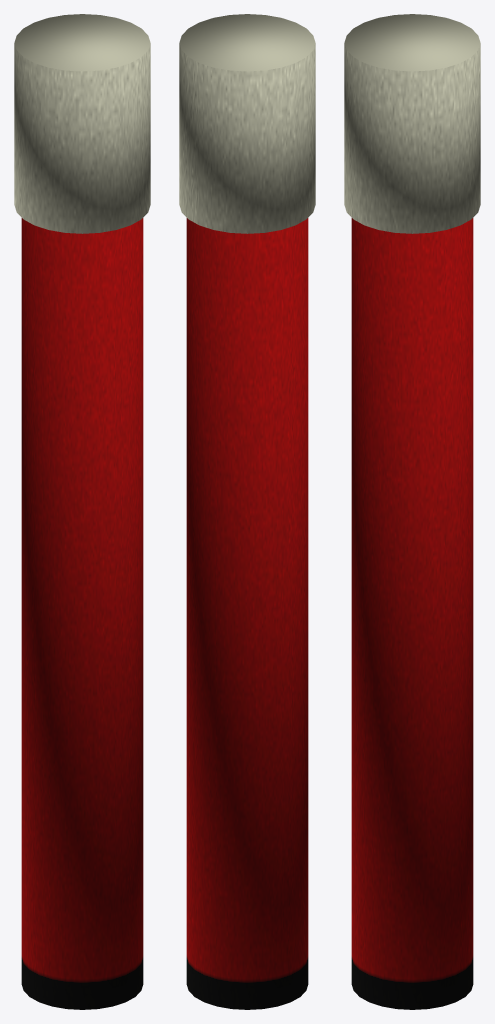
Rendered from SignalSmoke_RoadFlare.fbx.
3 views of the same model, side by side, from view 1: azimuth 90°, elevation 25°; view 2: azimuth 150°, elevation 25°; view 3: azimuth 270°, elevation 25° (orthographic).
Visible parts, largest first — view 1: SignalSmoke_RoadFlare; view 2: SignalSmoke_RoadFlare; view 3: SignalSmoke_RoadFlare.
Boxes of the visible parts, box(x1,y1,x2,y2) form: SignalSmoke_RoadFlare: box(14, 14, 150, 1009); SignalSmoke_RoadFlare: box(179, 14, 315, 1009); SignalSmoke_RoadFlare: box(344, 14, 480, 1009).
Bounding box in the file's own units: 7.6 × 58 × 7.6.
